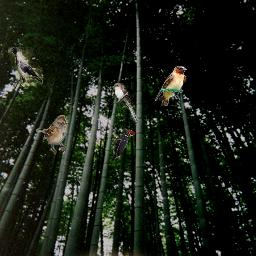Crow: (8, 47, 43, 87)
Cuckoo: (112, 83, 138, 123)
Sparrow: (36, 115, 68, 155)
Swallow: (155, 66, 187, 106)
Woodpecker: (111, 128, 135, 162)
